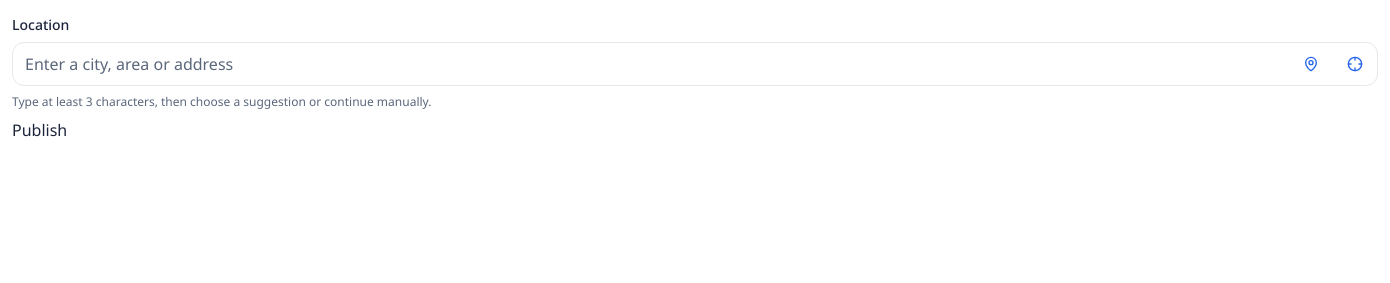
it: waits for three characters and a pause before querying localized suggestions
The image size is (1390, 283).
Type "At" into the dropdown. click: (695, 64)
box: [12,42,1378,86]
Wait 350 ms
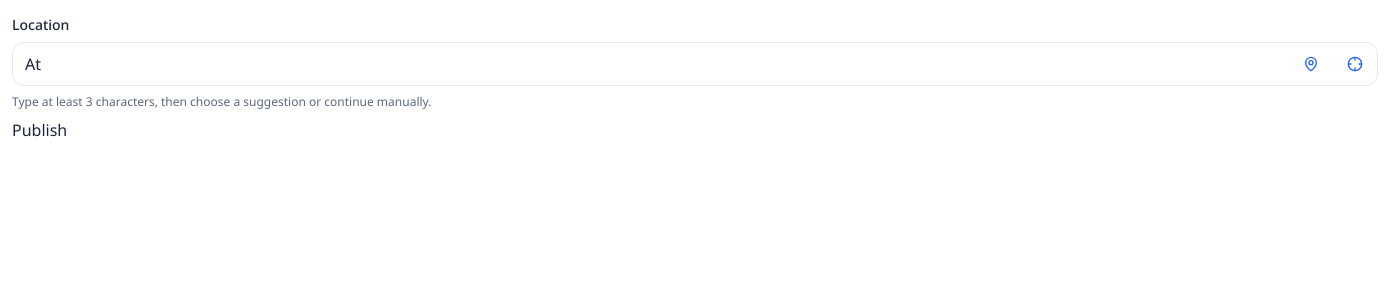
Replace the text in the dropdown with "Ath". click: (695, 64)
box: [12,42,1378,86]
Wait 350 ms
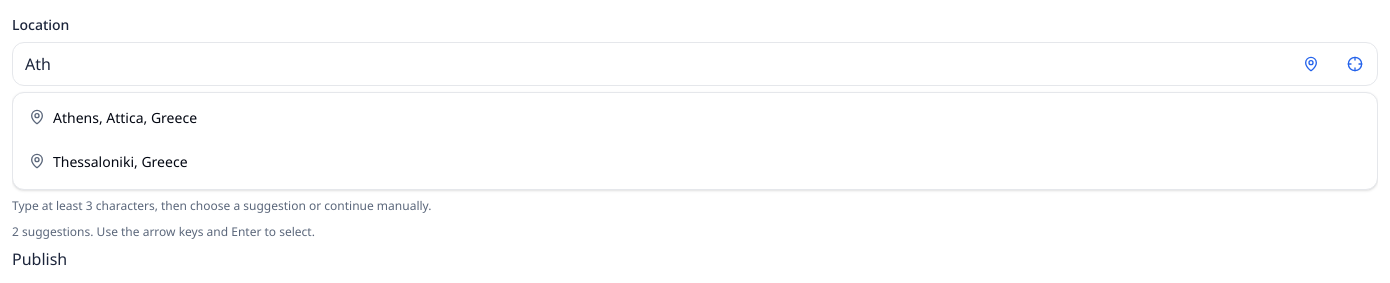
Now the number of options is 2, box [17,97,1373,141]; [17,141,1373,185]
Now the dropdown is expanded, box [12,42,1378,86]
